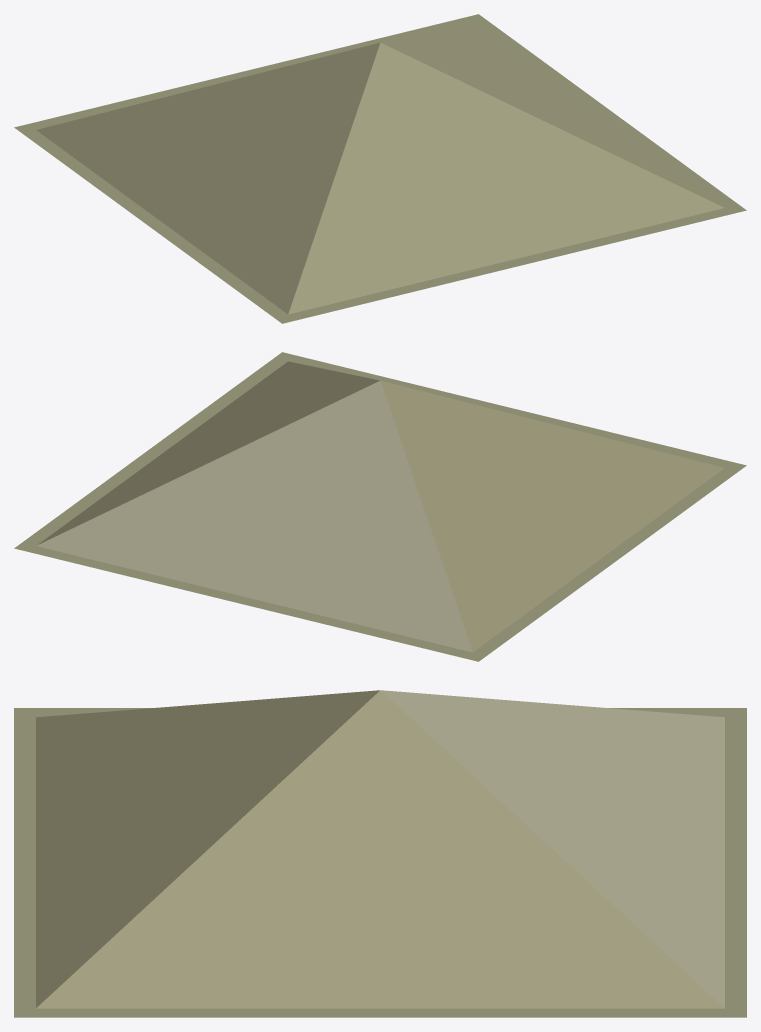
The model's file is hill.gltf.
3 views of the same model, one above another, from view 1: azimuth 30°, elevation 25°; view 2: azimuth 150°, elevation 25°; view 3: azimuth 270°, elevation 25° (orthographic). The views are drawn at different scales.
Parts seen in each view (by area): view 1: terrain-hill; view 2: terrain-hill; view 3: terrain-hill.
Part boxes in pixels (<box>): terrain-hill: <box>14,14,746,323</box>; terrain-hill: <box>14,352,746,661</box>; terrain-hill: <box>14,690,746,1017</box>.
Size of the model in its own units: 1 by 0.26 by 1.
